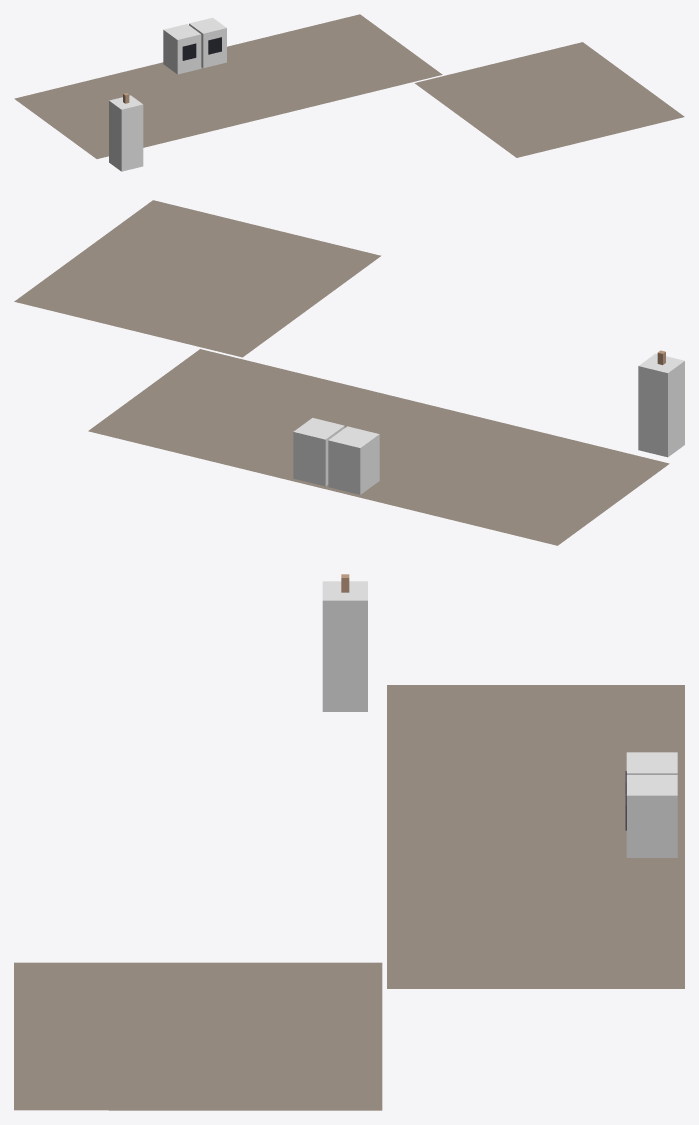
The model's file is fine-s0.glb.
The picture shows the model from 3 angles, top to bottom: view 1: azimuth 30°, elevation 25°; view 2: azimuth 150°, elevation 25°; view 3: azimuth 270°, elevation 25°; orthographic projection. The views are drawn at different scales.
Parts seen in each view (by area): view 1: soft-s0, water-heater.000, washer.000, washer.001; view 2: soft-s0, water-heater.000, washer.000, washer.001; view 3: soft-s0, water-heater.000, washer.001, washer.000.
Boxes of the visible parts, <box> form: soft-s0: <box>14,14,684,158</box>; water-heater.000: <box>109,93,143,171</box>; washer.000: <box>163,24,201,74</box>; washer.001: <box>189,17,226,68</box>; soft-s0: <box>14,200,669,545</box>; water-heater.000: <box>638,350,684,457</box>; washer.000: <box>328,426,379,494</box>; washer.001: <box>293,418,344,486</box>; soft-s0: <box>14,685,684,1110</box>; water-heater.000: <box>322,574,367,711</box>; washer.001: <box>625,775,677,857</box>; washer.000: <box>625,752,677,793</box>.
Size of the model in its own units: 12.27 by 1.7 by 8.18.
